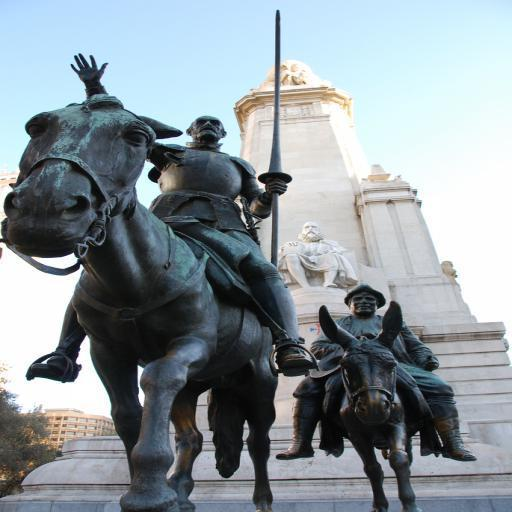horse: (0, 94, 283, 512)
